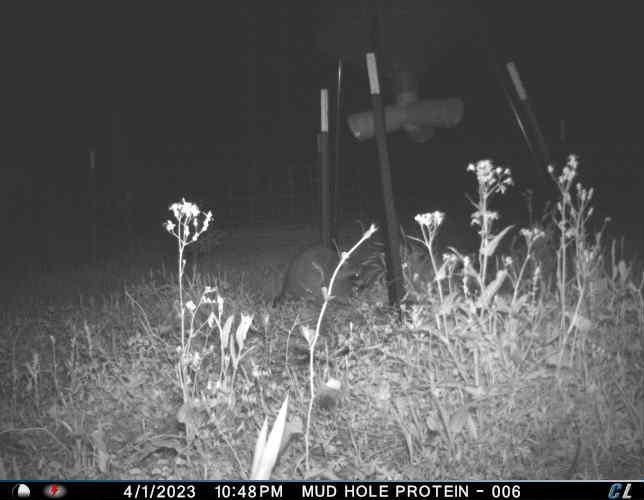Raccoon: (270, 244, 366, 313)
